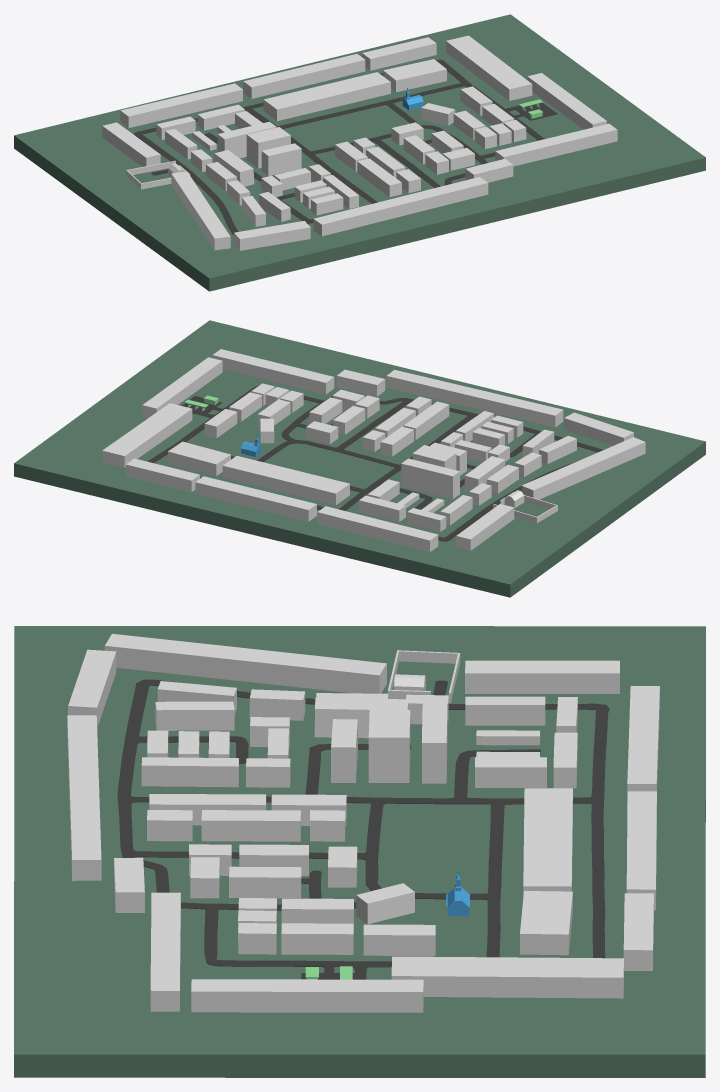
File: town.glb
3 renders of one model, top to bottom at view 1: azimuth 30°, elevation 25°; view 2: azimuth 150°, elevation 25°; view 3: azimuth 270°, elevation 25°, orthographic. The views are drawn at different scales.
Parts seen in each view (by area): view 1: Ground, Roads, Plane.044, Plane.020, Plane.034, Plane.040, Plane.041, Plane.039, Plane.047, Plane.035, Plane.045, Plane.042 (+29 smaller); view 2: Ground, Roads, Plane.044, Plane.020, Plane.047, Plane.034, Plane.041, Plane.040, Plane.039, Plane.035, Plane.026, Plane.042 (+27 smaller); view 3: Ground, Roads, Plane.047, Plane.034, Plane.035, Plane.052, Plane.020, Plane.044, Plane.039, Plane.040, Plane.021, Plane.019 (+35 smaller).
Part boxes in pixels (box(x1,y1,x2,y2)): Ground: box(14, 14, 705, 291); Roads: box(134, 59, 557, 234); Plane.044: box(313, 177, 488, 236); Plane.020: box(263, 72, 390, 121); Plane.034: box(446, 35, 532, 100); Plane.040: box(120, 83, 242, 128); Plane.041: box(243, 54, 365, 98); Plane.039: box(495, 123, 617, 166); Plane.047: box(171, 171, 230, 250); Plane.035: box(527, 73, 606, 129); Plane.045: box(234, 221, 310, 250); Plane.042: box(362, 37, 436, 70); Ground: box(14, 320, 705, 597); Roads: box(147, 386, 603, 541); Plane.044: box(386, 369, 563, 427); Plane.020: box(222, 456, 349, 505); Plane.047: box(521, 437, 645, 499); Plane.034: box(102, 403, 192, 467); Plane.041: box(195, 476, 316, 521); Plane.040: box(317, 506, 438, 551); Plane.039: box(212, 349, 334, 394); Plane.035: box(142, 357, 222, 417); Plane.026: box(401, 458, 459, 499); Plane.042: box(126, 458, 199, 492); Ground: box(14, 626, 705, 1077); Roads: box(117, 679, 609, 979); Plane.047: box(104, 633, 386, 693); Plane.034: box(391, 956, 623, 998); Plane.035: box(191, 979, 423, 1012); Plane.052: box(465, 660, 619, 693); Plane.020: box(523, 788, 572, 895); Plane.044: box(67, 715, 101, 880); Plane.039: box(150, 892, 180, 1011); Plane.040: box(627, 686, 659, 801); Plane.021: box(520, 891, 572, 955); Plane.019: box(201, 810, 300, 841).
Bounding box in the file's own units: 475 × 35.31 × 324.
